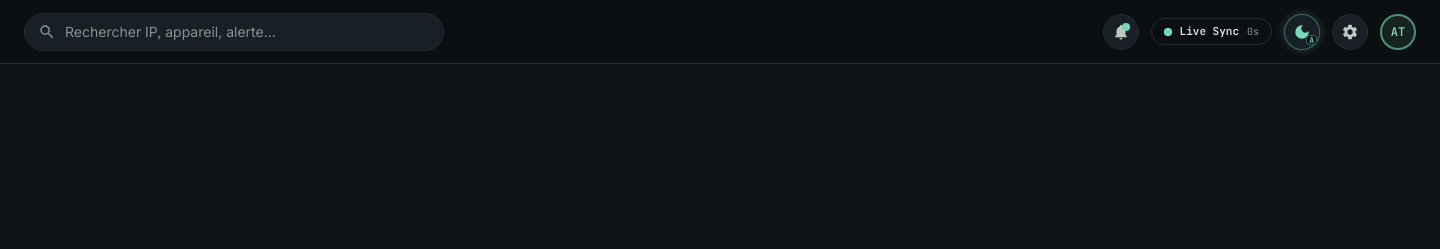
Test: Header : notifications réelles › affiche les alertes actives renvoyées par le serveur (aucune alerte fictive)
Click the button with id "header-notifications-btn" at (1121, 32), box [1103,14,1139,50]
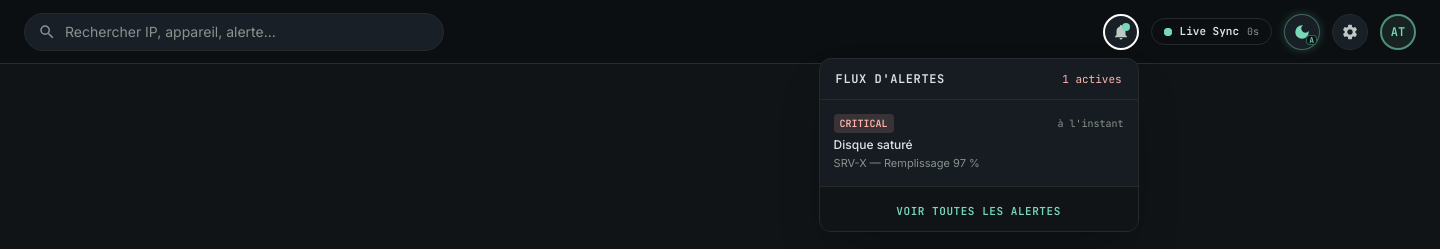
Now the text "Disque saturé" is shown, box [834,137,913,152]
